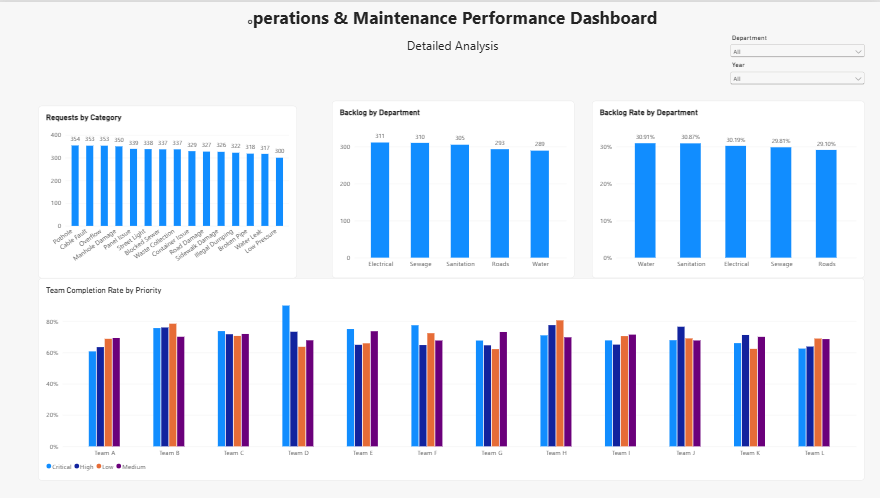

What the dashboard file says about the page in this screenshot:
{"tool":"powerbi","page":{"name":"Detailed Analysis","canvas":[1920,1080],"ordinal":2},"visuals":[{"type":"slicer","fields":{"Values":["Maintenance_Requests.Department"]},"box":[1590.1,68,301.7,89.7],"z":0},{"type":"clusteredColumnChart","title":"Requests by Category","fields":{"Category":["Maintenance_Requests.Category"],"Y":["Maintenance_Requests.Total Requests"]},"box":[89.7,225.6,562.6,375.1],"z":1000},{"type":"clusteredColumnChart","title":"Team Completion Rate by Priority","fields":{"Category":["Maintenance_Requests.AssignedTeam"],"Series":["Maintenance_Requests.Priority"],"Y":["Maintenance_Requests.Completion Rate"]},"box":[89.7,600.7,1796.6,440.3],"z":4000},{"type":"clusteredColumnChart","title":"Backlog by Department","fields":{"Category":["Maintenance_Requests.Department"],"Y":["Maintenance_Requests.Open Requests"]},"box":[728.4,214.7,527.3,386],"z":5000},{"type":"clusteredColumnChart","title":"Backlog Rate by Department","fields":{"Category":["Maintenance_Requests.Department"],"Y":["Maintenance_Requests.Open Rate"]},"box":[1293.8,214.7,592.5,386],"z":6000},{"type":"slicer","fields":{"Values":["DateTable.Year"]},"box":[1590.6,127.7,300.8,60.6],"z":6001},{"type":"textbox","box":[89.7,8.2,1802.1,149.5],"z":6002}]}

Visuals, with their boxes in screenshot pixels (x1, y1, x2, y2), scaled from the page's 1920x1080 canvas onto the 880x498 screenshot:
slicer - Maintenance_Requests.Department: (729, 31, 867, 73)
"Requests by Category" clusteredColumnChart: (41, 104, 299, 277)
"Team Completion Rate by Priority" clusteredColumnChart: (41, 277, 865, 480)
"Backlog by Department" clusteredColumnChart: (334, 99, 576, 277)
"Backlog Rate by Department" clusteredColumnChart: (593, 99, 865, 277)
slicer - DateTable.Year: (729, 59, 867, 87)
textbox: (41, 4, 867, 73)
